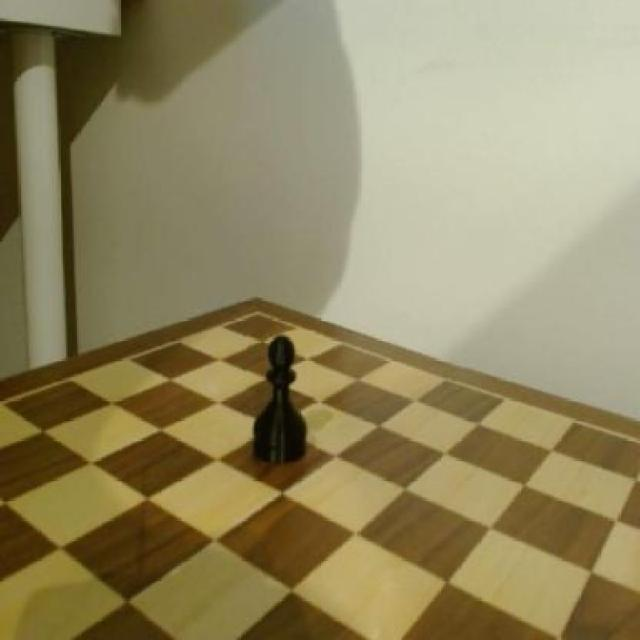black-knight: (248, 332, 315, 472)
